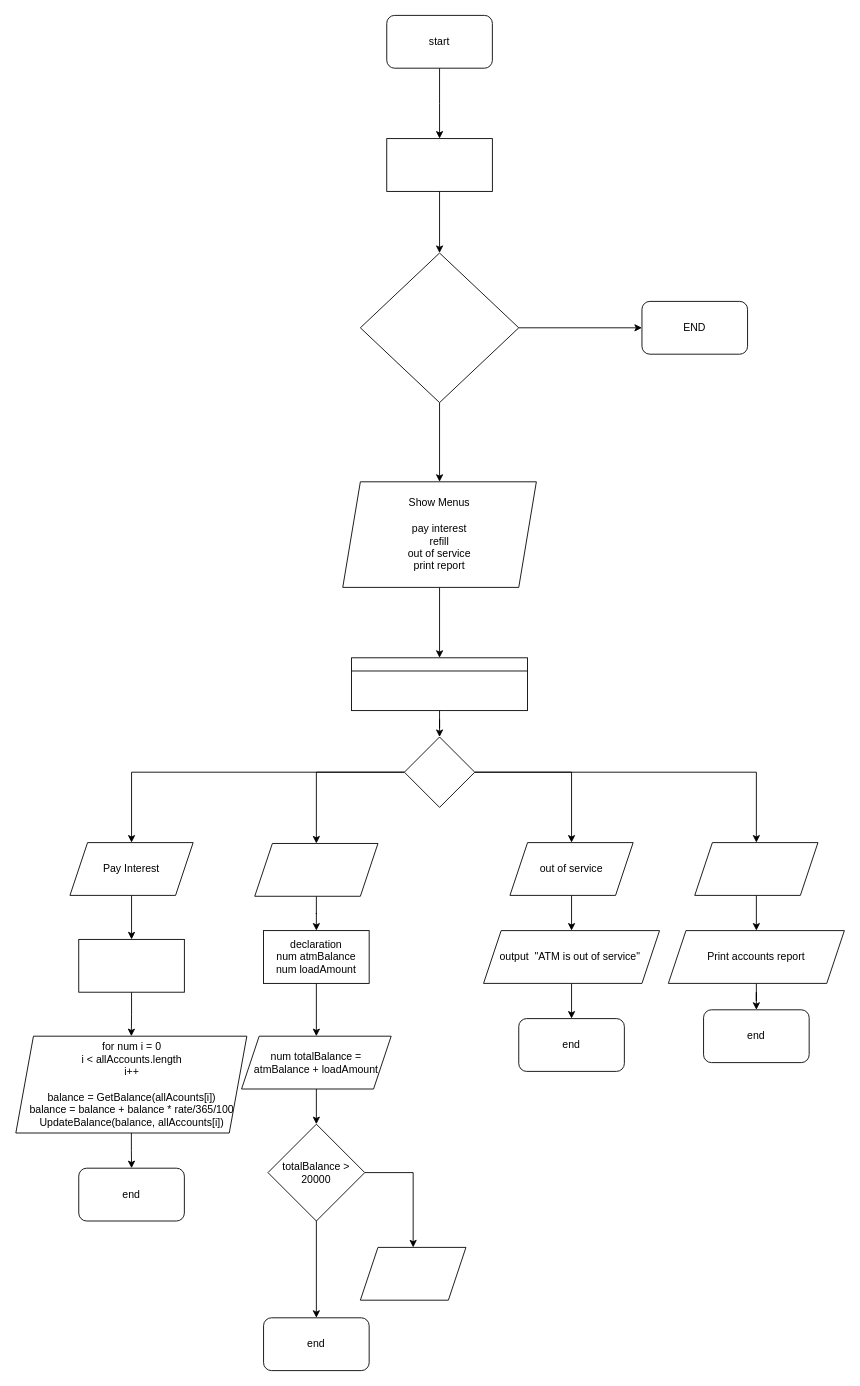
The diagram is 860 pixels wide and 1386 high, and some of its shapes have lost their labels. The centre of each missing label's shape, as x and y in pixels:
declaration num interest = 1 num[] allAccounts: point 131,965
Declaration num pin string username string menu: point 439,164
menu?: point 439,771
menuSelection(): point 439,684
output "more than $20000 in ATM": point 412,1273
pin <> 13579 and username <> SysAdmin: point 439,327
print account reports: point 756,868
refill: point 316,869
